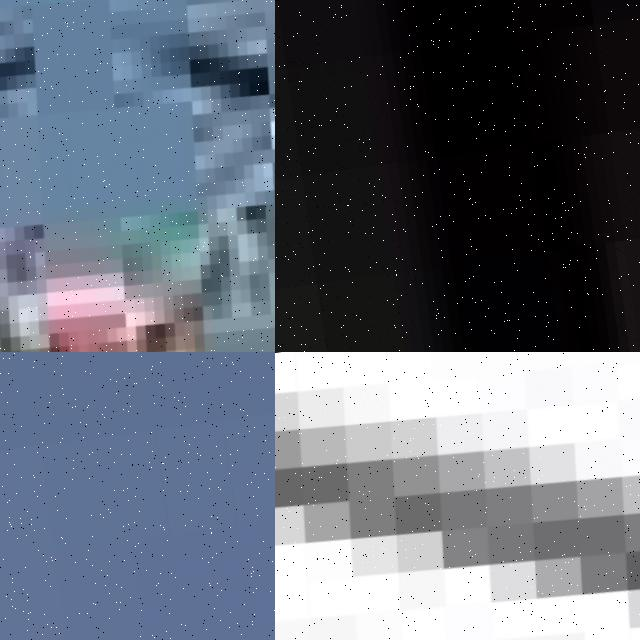0: (0, 0, 275, 352)
drone: (275, 352, 640, 640)
